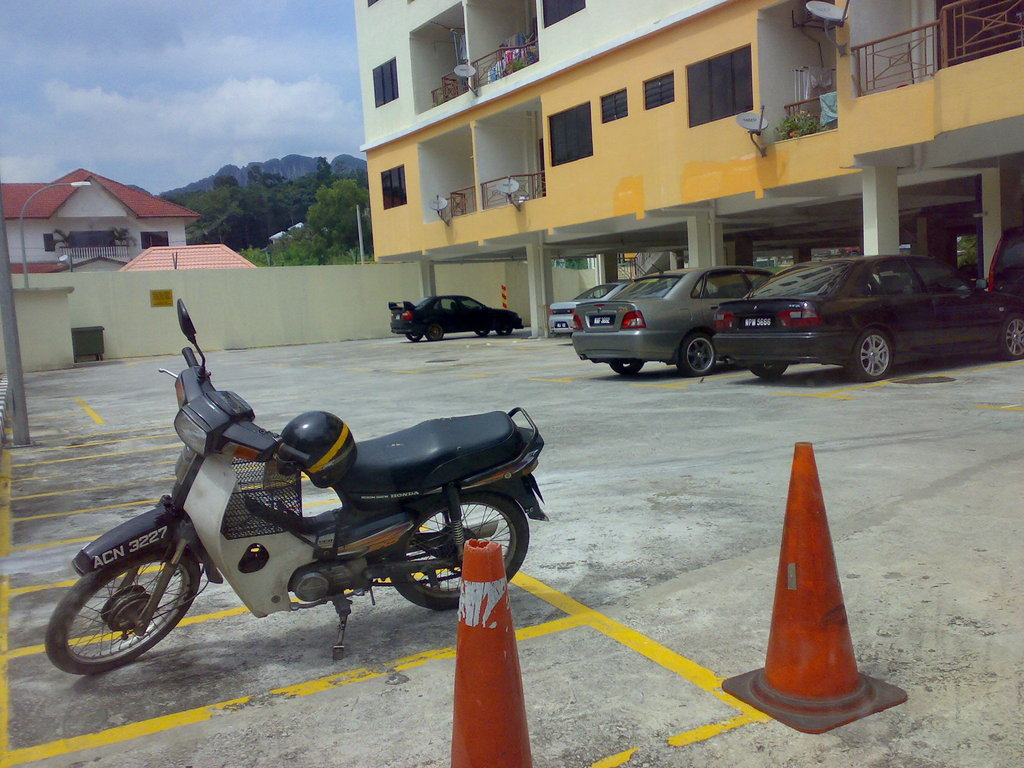Motorcycle: (40, 296, 544, 663)
